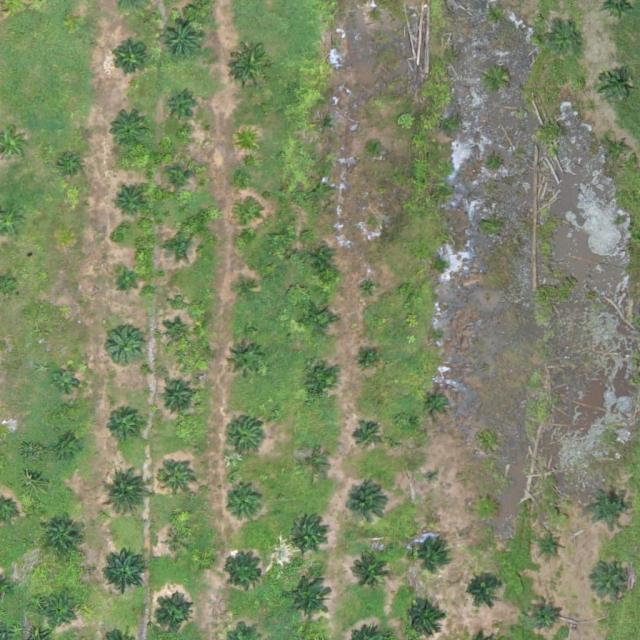Grass: (58, 438, 81, 462)
Small: (286, 576, 333, 624), (344, 484, 391, 532), (101, 472, 148, 519), (102, 544, 149, 591), (159, 15, 206, 62), (349, 548, 396, 595), (42, 518, 81, 558), (106, 404, 145, 444), (111, 38, 150, 78), (232, 47, 271, 87), (590, 487, 629, 527), (412, 532, 451, 572), (152, 596, 192, 635), (157, 377, 196, 417), (226, 552, 265, 592), (226, 342, 265, 382), (225, 417, 264, 457), (105, 325, 144, 364), (109, 112, 148, 151), (597, 560, 636, 599), (465, 571, 504, 610), (405, 600, 444, 639), (291, 516, 330, 555), (301, 363, 340, 402), (227, 487, 266, 526), (159, 458, 198, 497), (301, 301, 340, 340), (43, 598, 74, 630), (113, 187, 144, 219), (161, 231, 192, 263), (352, 421, 383, 453), (163, 94, 194, 125), (551, 28, 582, 59), (598, 68, 629, 99), (530, 599, 561, 630), (299, 450, 330, 481), (423, 389, 454, 420), (161, 321, 192, 352), (164, 165, 195, 196), (540, 535, 564, 559), (609, 139, 633, 163), (235, 129, 259, 153), (475, 497, 499, 521), (359, 277, 383, 301), (312, 247, 336, 271), (237, 205, 261, 229), (236, 280, 260, 304), (309, 179, 333, 203), (59, 156, 83, 180), (168, 531, 191, 555), (315, 113, 338, 137), (116, 270, 139, 294), (55, 368, 78, 391), (366, 7, 382, 23), (360, 350, 376, 366), (425, 469, 441, 484), (368, 138, 383, 153)
